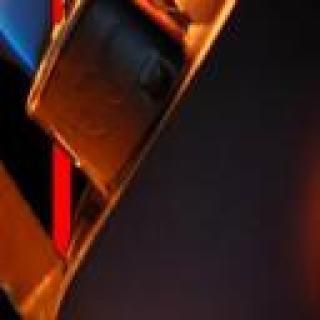fire: (0, 0, 52, 70)
